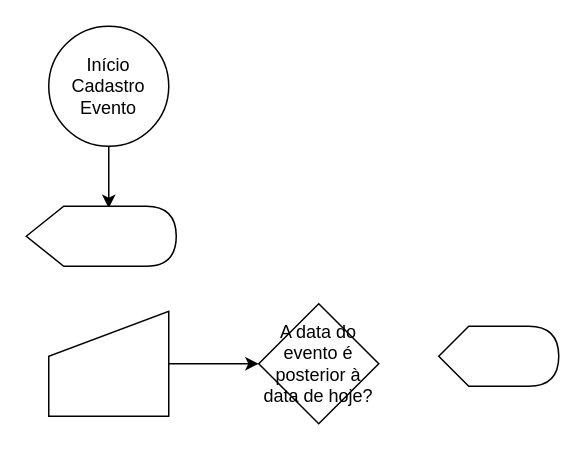
Image size: 585x450. Some labels were removed from this diagram. The shapes that lost their labels are listed below. From the top down, each one's box as (x1, y1, x2, y2) in pixels, then its label:
(25, 205, 176, 266): Informe a data do evento
(47, 310, 169, 416): Data do evento
